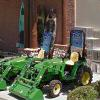Tractor: (17, 41, 100, 100)
